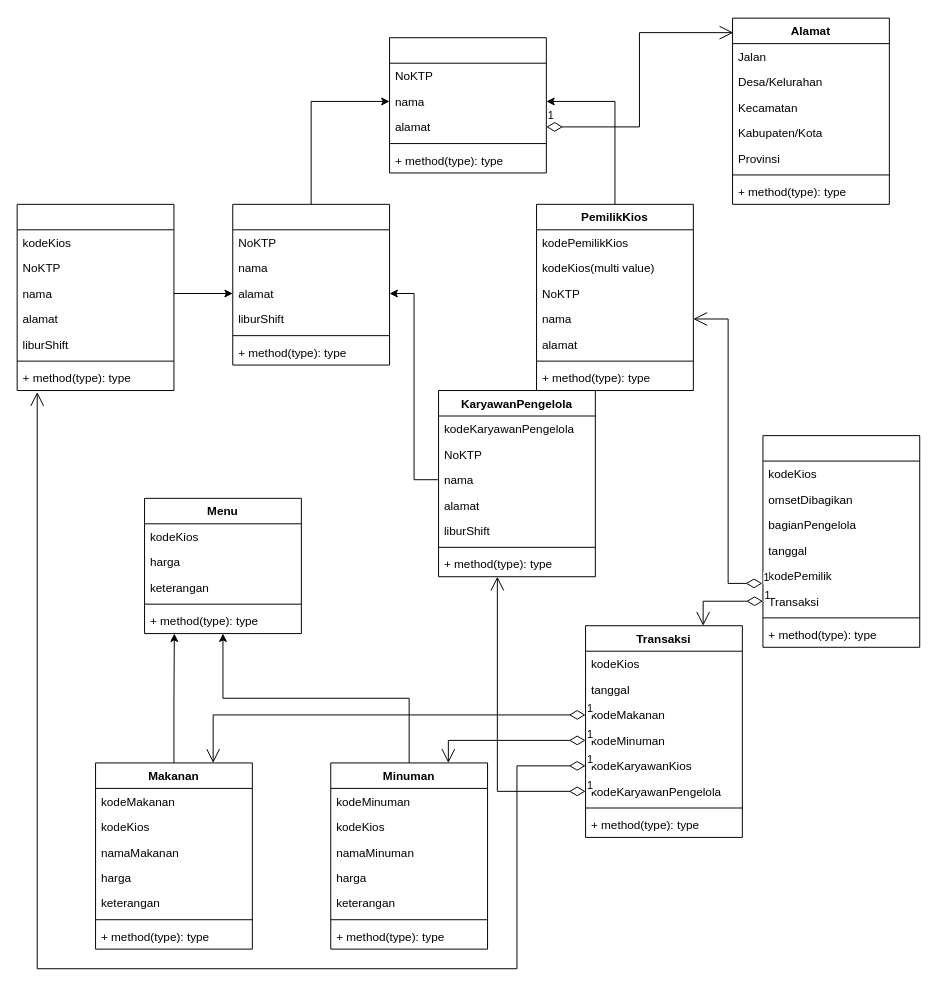
The diagram is 937 pixels wide and 1004 high, and some of its shapes have lost their labels. The shapes that lost their labels are listed below. From the top down, each one's box as (x1, y1, x2, y2) in pixels, then its label:
(389, 37, 546, 173): Human
(16, 203, 174, 391): KaryawanKios
(232, 203, 390, 365): Karyawan
(762, 435, 920, 647): PembagianTransaksiPerhari
